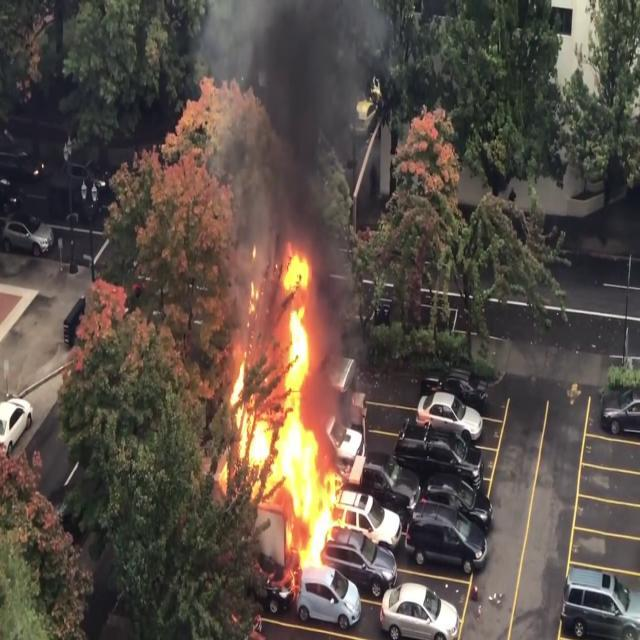Fire: (220, 241, 354, 581)
Smoke: (214, 0, 370, 265)
